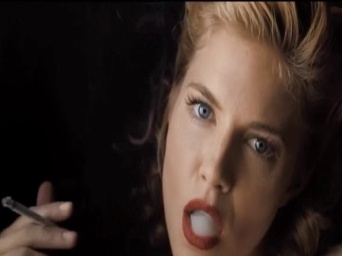smoke: (2, 194, 55, 227)
